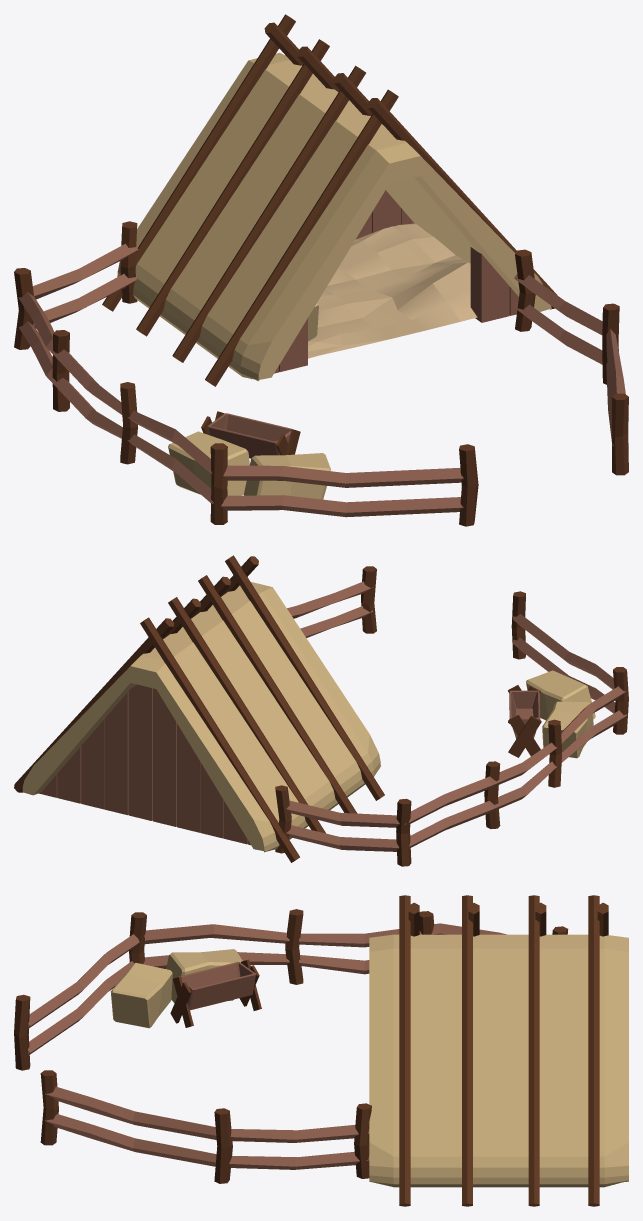
The model's file is ExplodedAnimalPen.fbx.
3 renders of one model, top to bottom at view 1: azimuth 30°, elevation 25°; view 2: azimuth 150°, elevation 25°; view 3: azimuth 270°, elevation 25°, orthographic. The views are drawn at different scales.
Parts seen in each view (by area): view 1: AnimalPen.016, AnimalPen.025, AnimalPen.019, AnimalPen.018, AnimalPen.020, AnimalPen.051, AnimalPen.050, AnimalPen.043, AnimalPen.017, AnimalPen.047, AnimalPen.001, AnimalPen.026 (+20 smaller); view 2: AnimalPen.016, AnimalPen.014, AnimalPen.047, AnimalPen.043, AnimalPen.015, AnimalPen.017, AnimalPen.018, AnimalPen.010, AnimalPen.020, AnimalPen.019, AnimalPen.007, AnimalPen.011 (+21 smaller); view 3: AnimalPen.016, AnimalPen.021, AnimalPen.022, AnimalPen.024, AnimalPen.023, AnimalPen.001, AnimalPen.026, AnimalPen.030, AnimalPen.045, AnimalPen.044, AnimalPen.031, AnimalPen.046 (+12 smaller).
Part boxes in pixels (x1,y1,x2,y2): AnimalPen.016: (117,52,551,381); AnimalPen.025: (308,223,477,358); AnimalPen.019: (136,39,329,336); AnimalPen.018: (205,89,398,386); AnimalPen.020: (172,65,365,362); AnimalPen.051: (221,495,463,517); AnimalPen.050: (223,465,463,487); AnimalPen.043: (18,243,138,414); AnimalPen.017: (102,14,295,311); AnimalPen.047: (19,274,136,438); AnimalPen.001: (244,453,330,499); AnimalPen.026: (207,413,292,458); AnimalPen.016: (22,581,380,852); AnimalPen.014: (128,684,152,820); AnimalPen.047: (286,761,556,851); AnimalPen.043: (286,742,556,827); AnimalPen.015: (153,688,176,826); AnimalPen.017: (140,617,299,862); AnimalPen.018: (225,555,384,800); AnimalPen.010: (104,692,128,815); AnimalPen.020: (198,575,357,813); AnimalPen.019: (168,597,325,833); AnimalPen.007: (177,723,200,832); AnimalPen.011: (81,719,104,809); AnimalPen.016: (369,934,628,1187); AnimalPen.021: (399,895,410,1206); AnimalPen.022: (588,895,599,1206); AnimalPen.024: (528,895,539,1206); AnimalPen.023: (462,895,472,1206); AnimalPen.001: (110,963,172,1028); AnimalPen.026: (177,962,255,1010); AnimalPen.030: (45,1114,216,1166); AnimalPen.045: (45,1086,216,1139); AnimalPen.044: (144,924,289,944); AnimalPen.031: (229,1151,369,1169); AnimalPen.046: (230,1125,369,1142).
Size of the model in its own units: 1977 by 959 by 2291.
